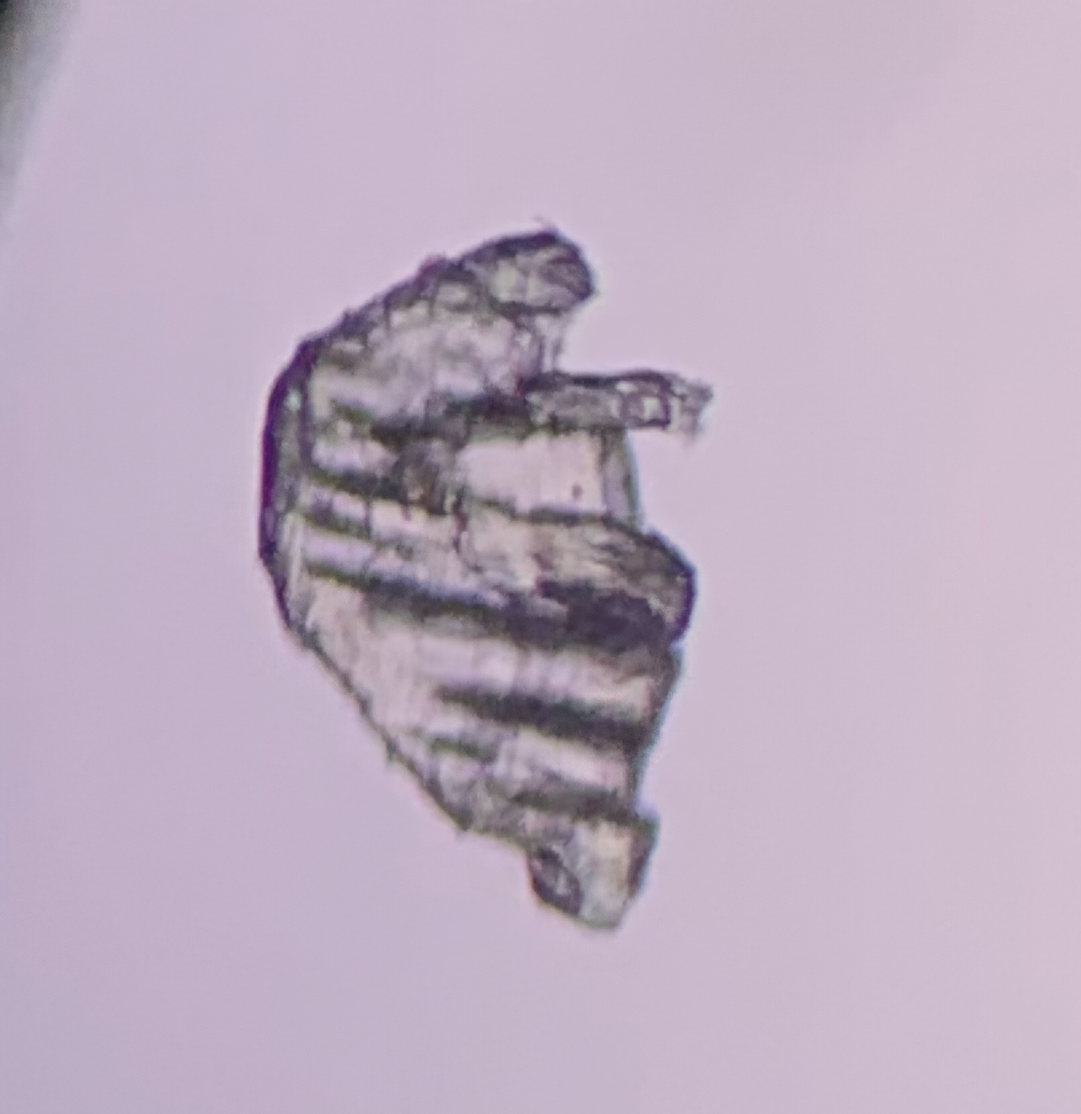microplastic: (258, 222, 718, 940)
